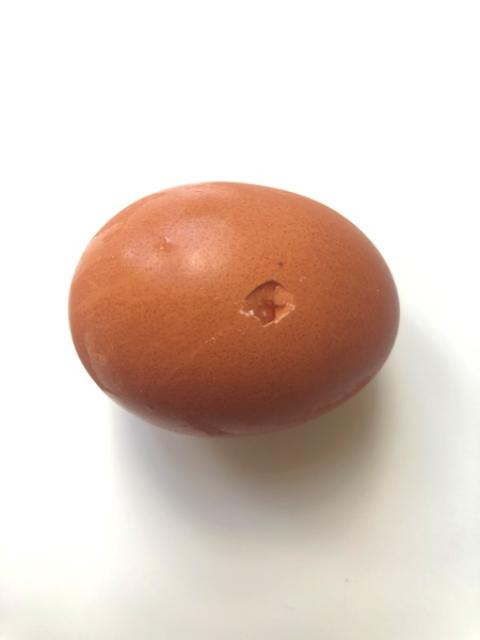Roto: (67, 179, 401, 438)
